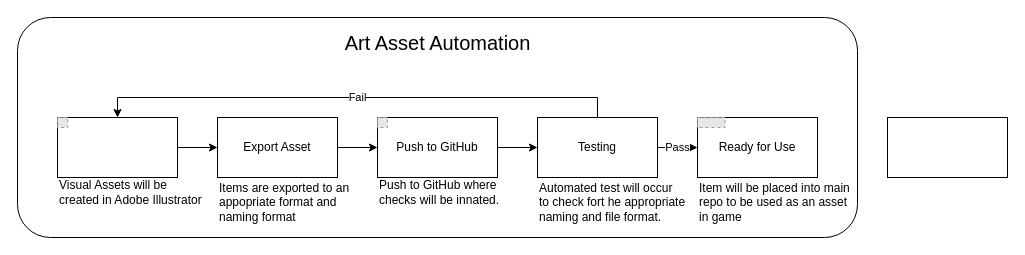
The diagram is 1025 pixels wide and 255 high, and some of its shapes have lost their labels. Grey dashed boxes stand in for pictures. Each missing label, with the box of its shape:
Create Visual Asset: (56, 116, 178, 178)
Next: How to Auto Import Assets: (886, 116, 1008, 178)
